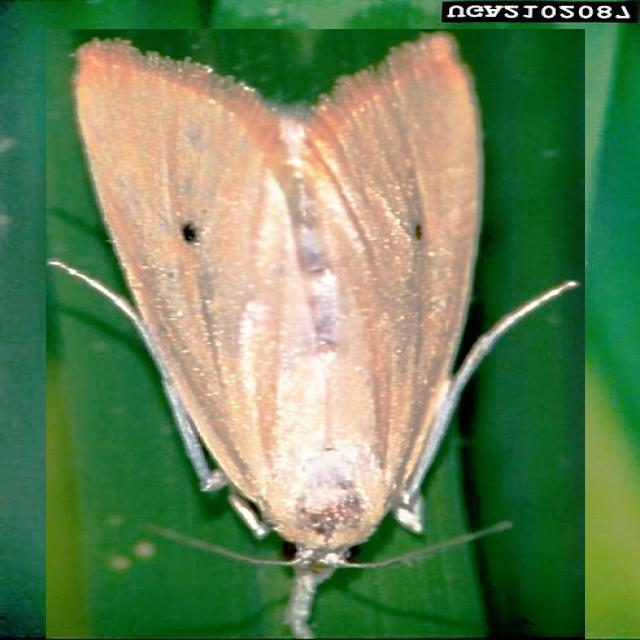stem-borer: (46, 29, 585, 640)
